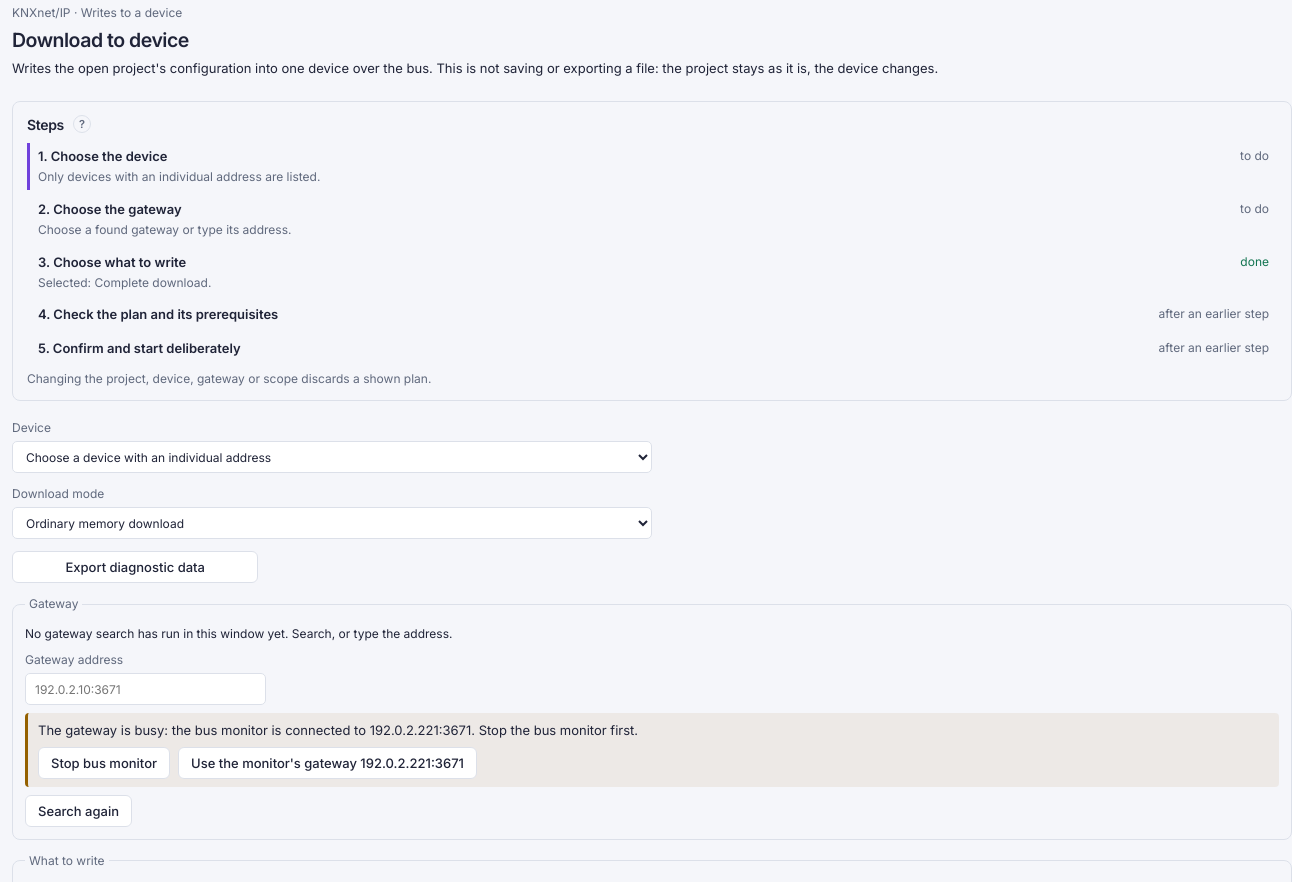
Scenario: names a connected bus monitor before anything is prepared, and stops it on request
The width and height of the screenshot is (1292, 882).
Click the button "Stop bus monitor". click: [104, 763]
box: [38,747,170,779]
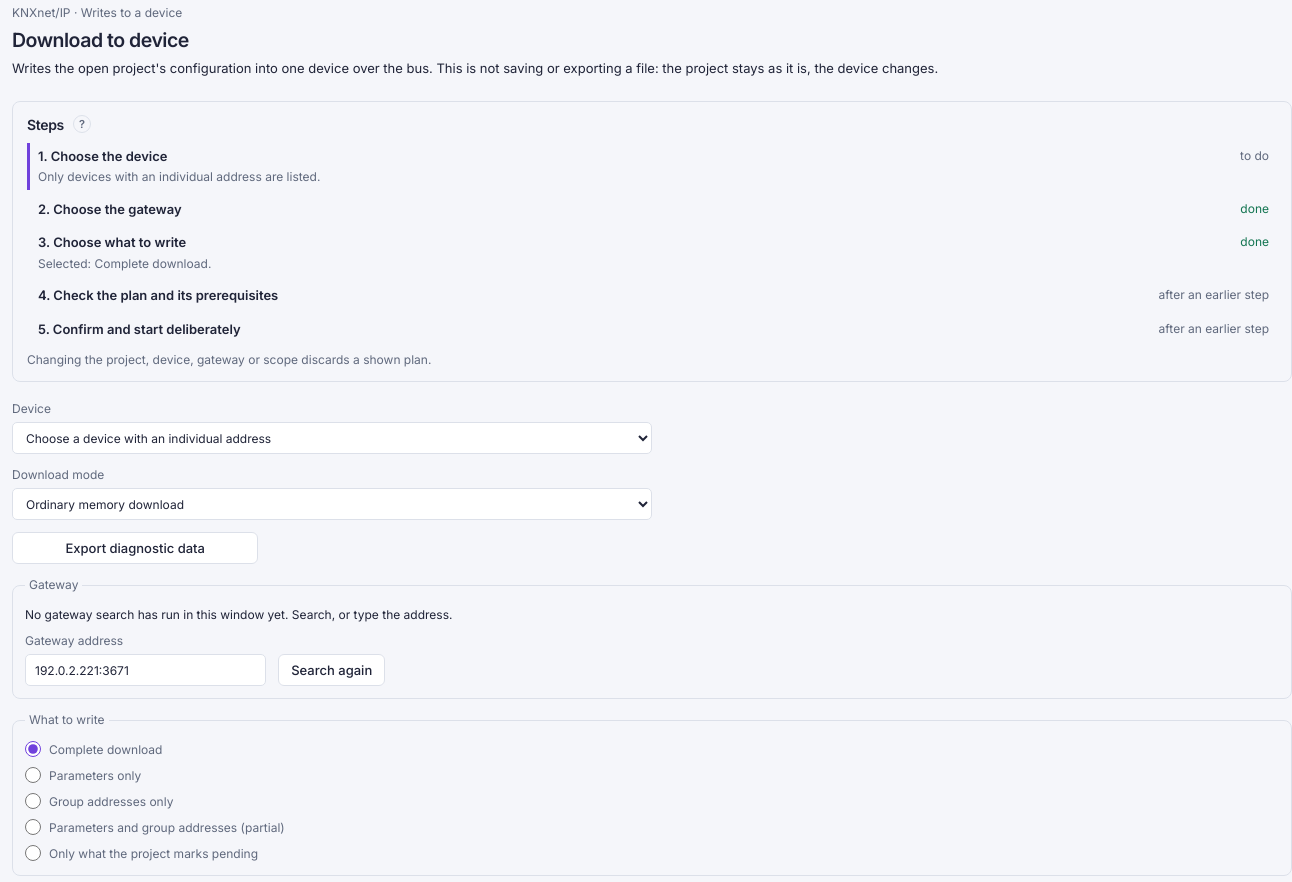
Expected: the element with class "device-download-holder" is gone
Expected: the field labelled "Gateway address" holds "192.0.2.221:3671", [25,654,266,686]
